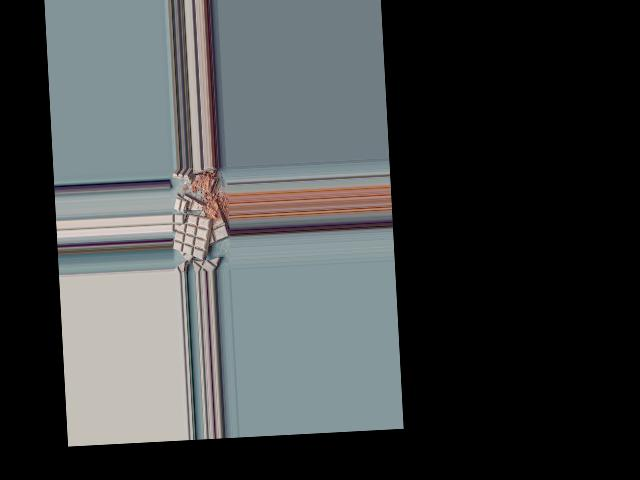chocolate: (171, 214, 213, 262)
